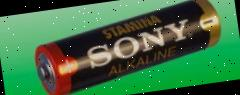electronic: (22, 0, 240, 95)
